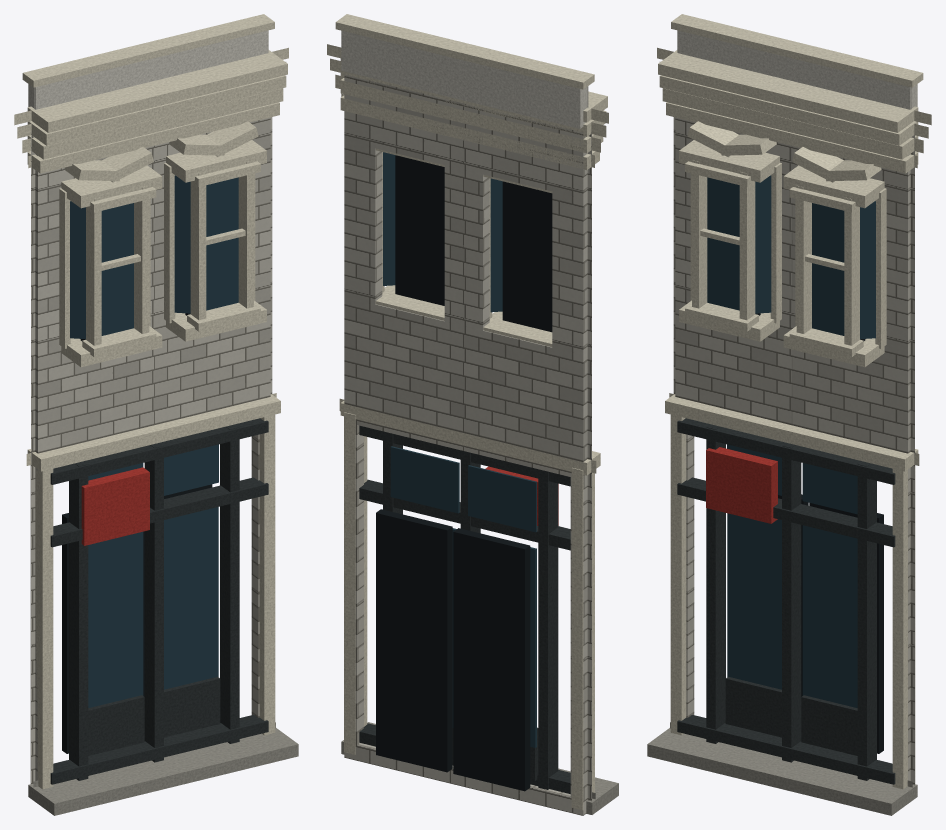
The model's file is BUSS6_lod2.glb.
3 views of the same model, side by side, from view 1: azimuth 30°, elevation 25°; view 2: azimuth 150°, elevation 25°; view 3: azimuth 330°, elevation 25° (orthographic). The views are drawn at different scales.
Visible parts, largest first — view 1: BUSS6_FRONT_LOD2; view 2: BUSS6_FRONT_LOD2; view 3: BUSS6_FRONT_LOD2.
Boxes of the visible parts, x1,y1,x2,y2 form: BUSS6_FRONT_LOD2: [14, 14, 298, 815]; BUSS6_FRONT_LOD2: [327, 14, 618, 815]; BUSS6_FRONT_LOD2: [647, 14, 931, 815].
Bounding box in the file's own units: 3.78 × 9.44 × 1.02.
Materials: 9 (7 with a texture image).
